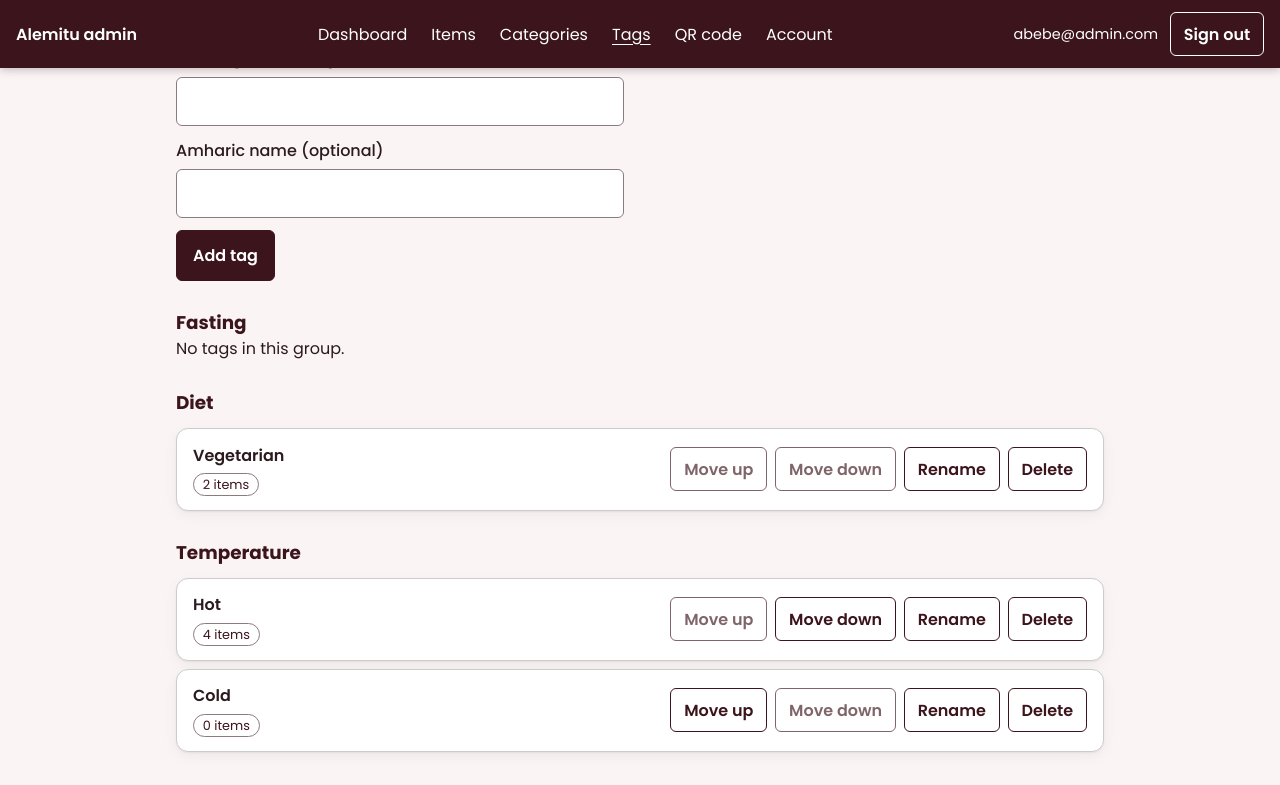
Test case: admin tags page › renames a tag
(page scrolled)
Click the button with aria-label "Rename: Hot" at (952, 619), box x1=904 y1=597 x2=1000 y2=641
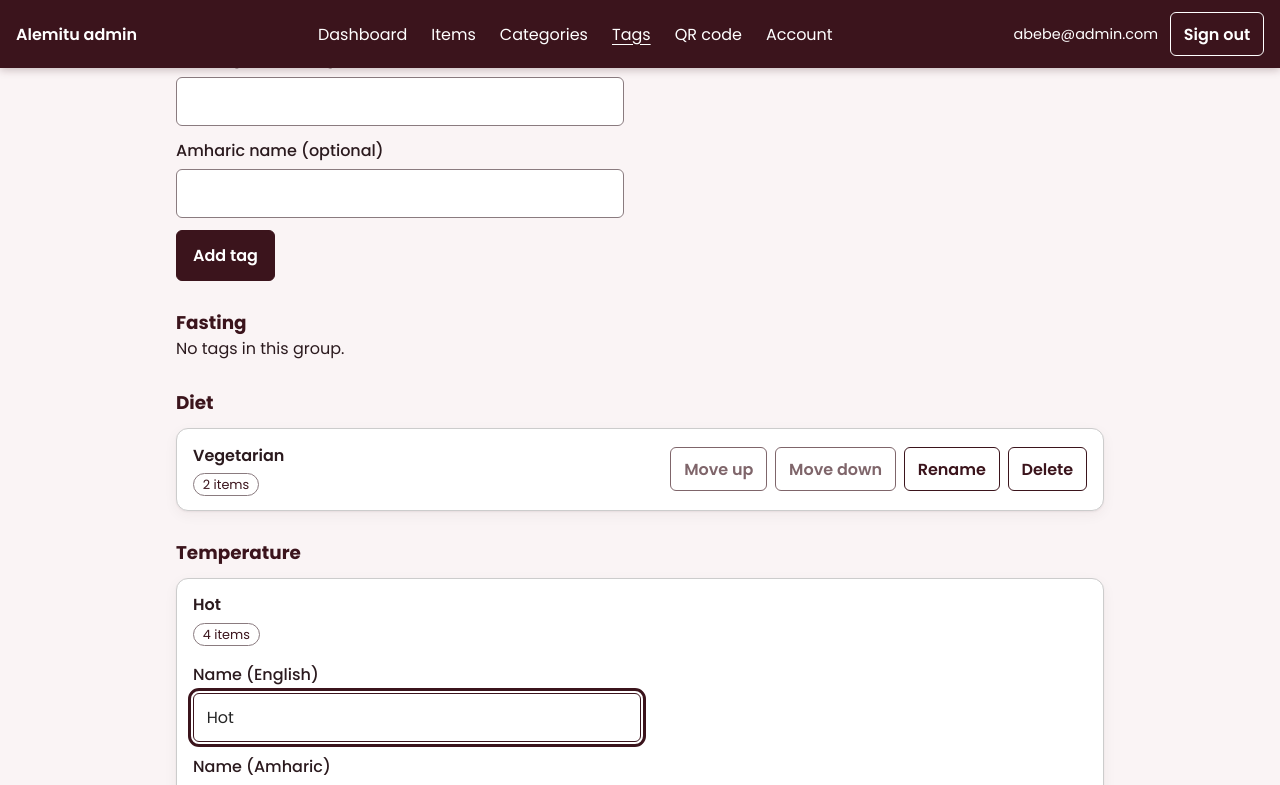
Replace the text in the field labelled "Name (English)" with "Piping hot" at (417, 718), box x1=193 y1=693 x2=641 y2=742
(page scrolled)
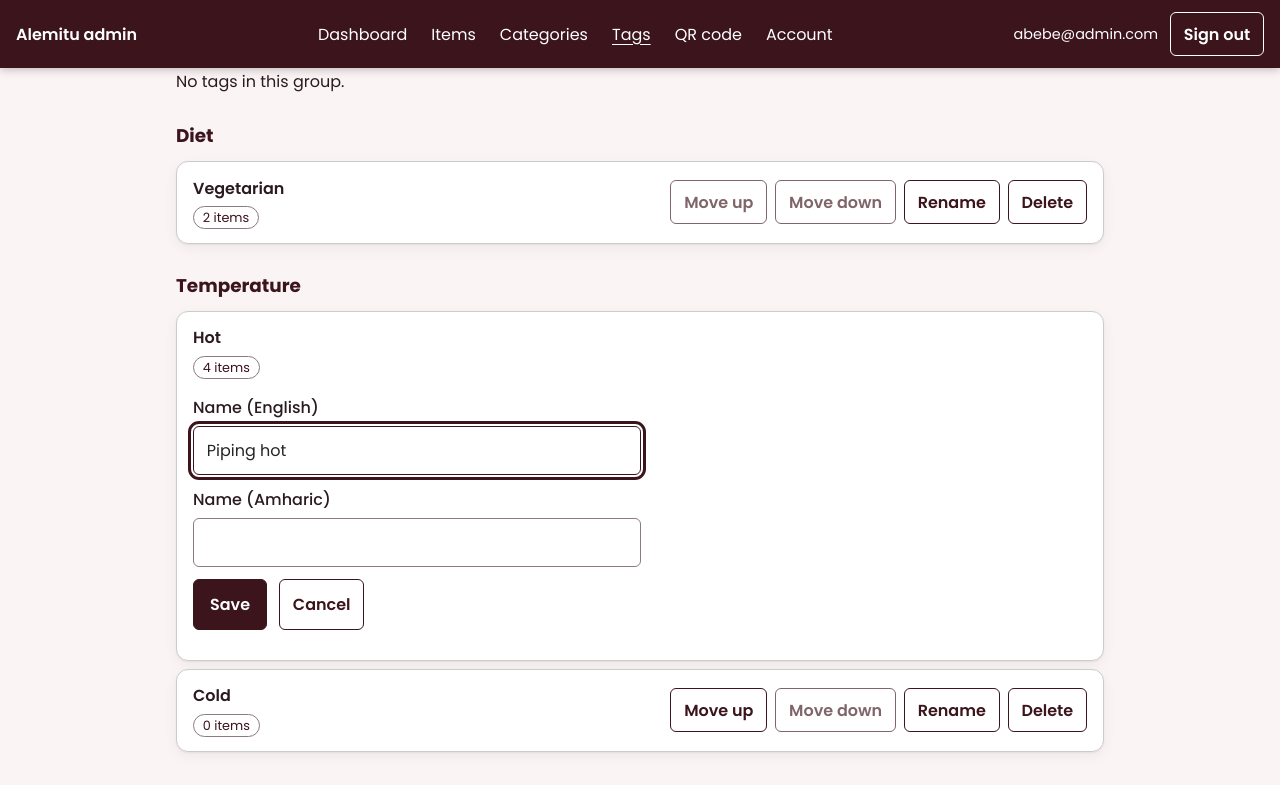
Click the button "Save" at (230, 605), box x1=193 y1=579 x2=267 y2=630
(page scrolled)
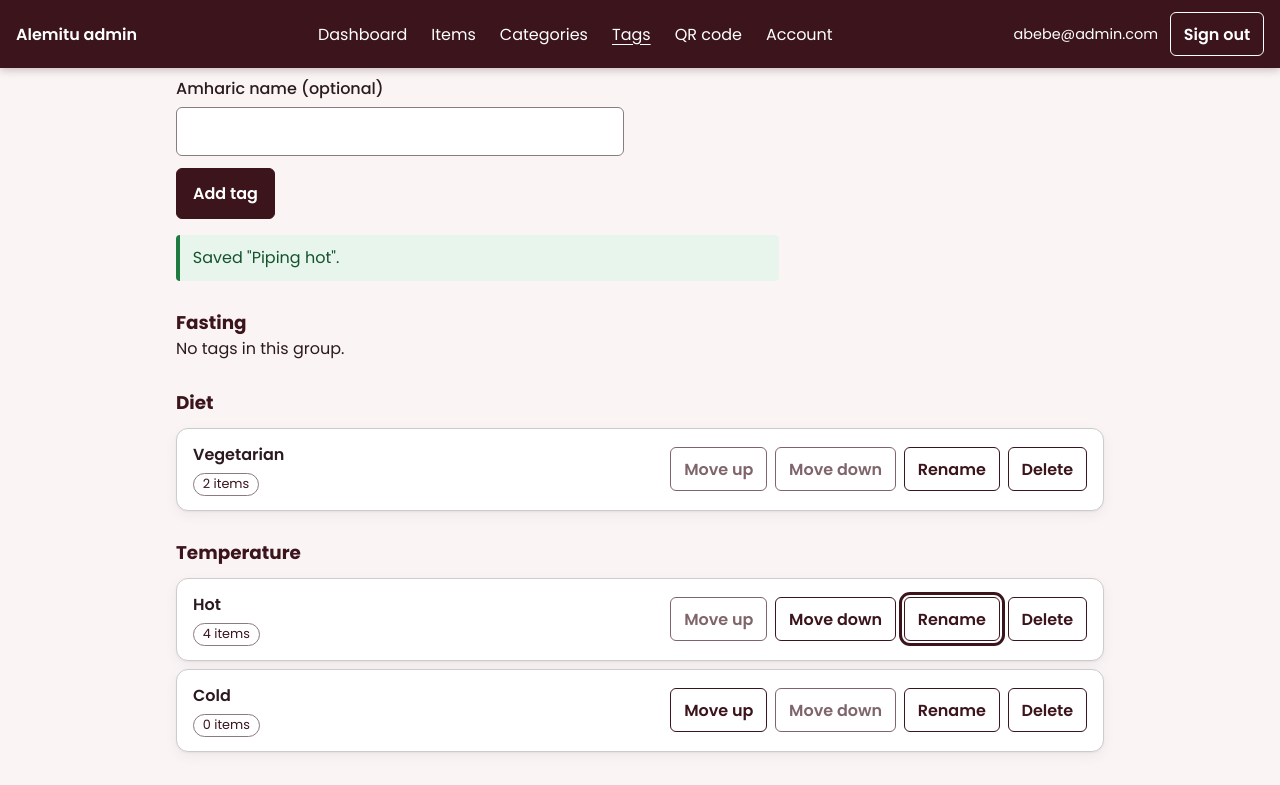
Result: the text "Saved \"Piping hot\"." is shown at x1=176 y1=235 x2=779 y2=281
